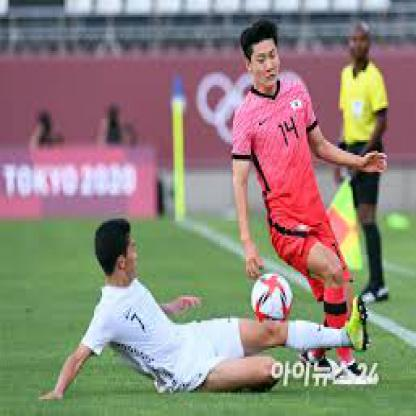Fall_Down: (38, 216, 369, 406)
